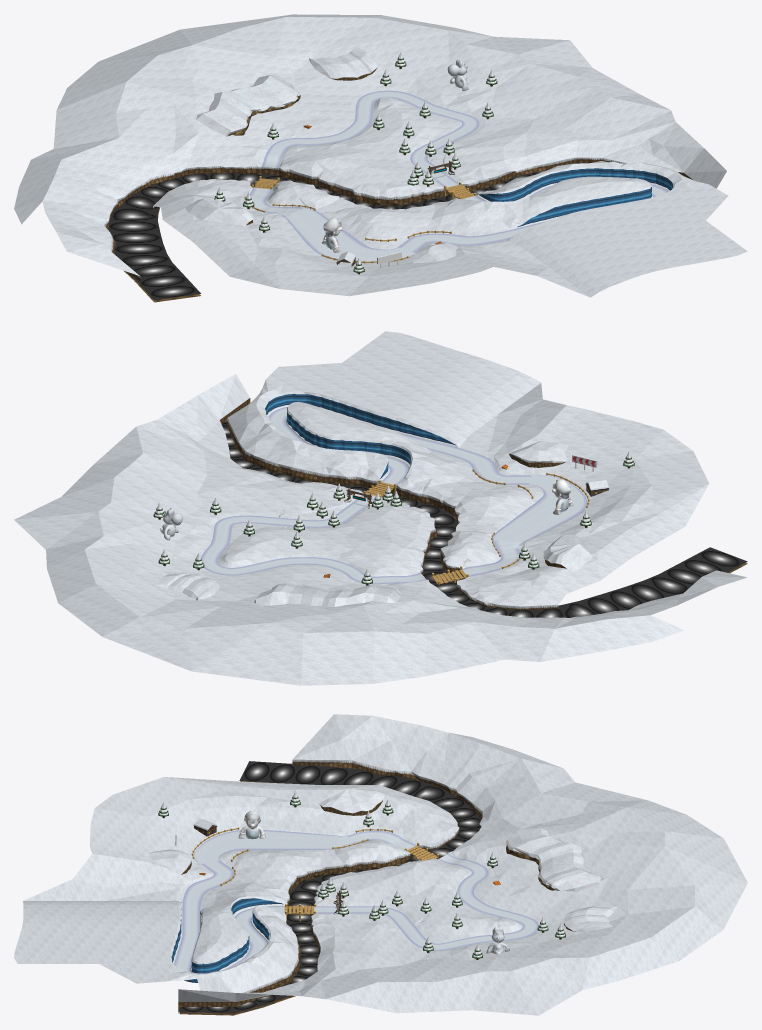
3 views of the same model, one above another, from view 1: azimuth 30°, elevation 25°; view 2: azimuth 150°, elevation 25°; view 3: azimuth 270°, elevation 25° (orthographic). The views are drawn at different scales.
Visible parts, largest first — view 1: snow.001, road.024, river.001, rock.007, icewall, tree.005, woodroad, mario1; view 2: snow.001, road.024, river.001, rock.007, icewall, tree.005, woodroad; view 3: snow.001, road.024, river.001, rock.007, tree.005, icewall, woodroad.
Part boxes in pixels (x1,y1,x2,y2): snow.001: [14, 14, 747, 297]; road.024: [249, 90, 667, 262]; river.001: [108, 162, 589, 300]; rock.007: [104, 68, 692, 302]; icewall: [477, 168, 673, 227]; tree.005: [214, 52, 497, 274]; woodroad: [244, 160, 475, 263]; mario1: [322, 217, 342, 252]; snow.001: [14, 331, 747, 685]; road.024: [201, 407, 587, 584]; river.001: [221, 420, 747, 617]; rock.007: [220, 398, 747, 610]; icewall: [265, 394, 456, 478]; tree.005: [153, 451, 634, 585]; woodroad: [344, 469, 589, 584]; snow.001: [14, 714, 747, 1015]; road.024: [174, 830, 538, 972]; river.001: [180, 761, 479, 1013]; rock.007: [178, 759, 575, 1015]; tree.005: [158, 791, 565, 959]; icewall: [171, 898, 283, 982]; woodroad: [191, 827, 439, 921].
Size of the model in its own units: 136726 by 10138 by 147678.
Materials: 15 (15 with a texture image).
